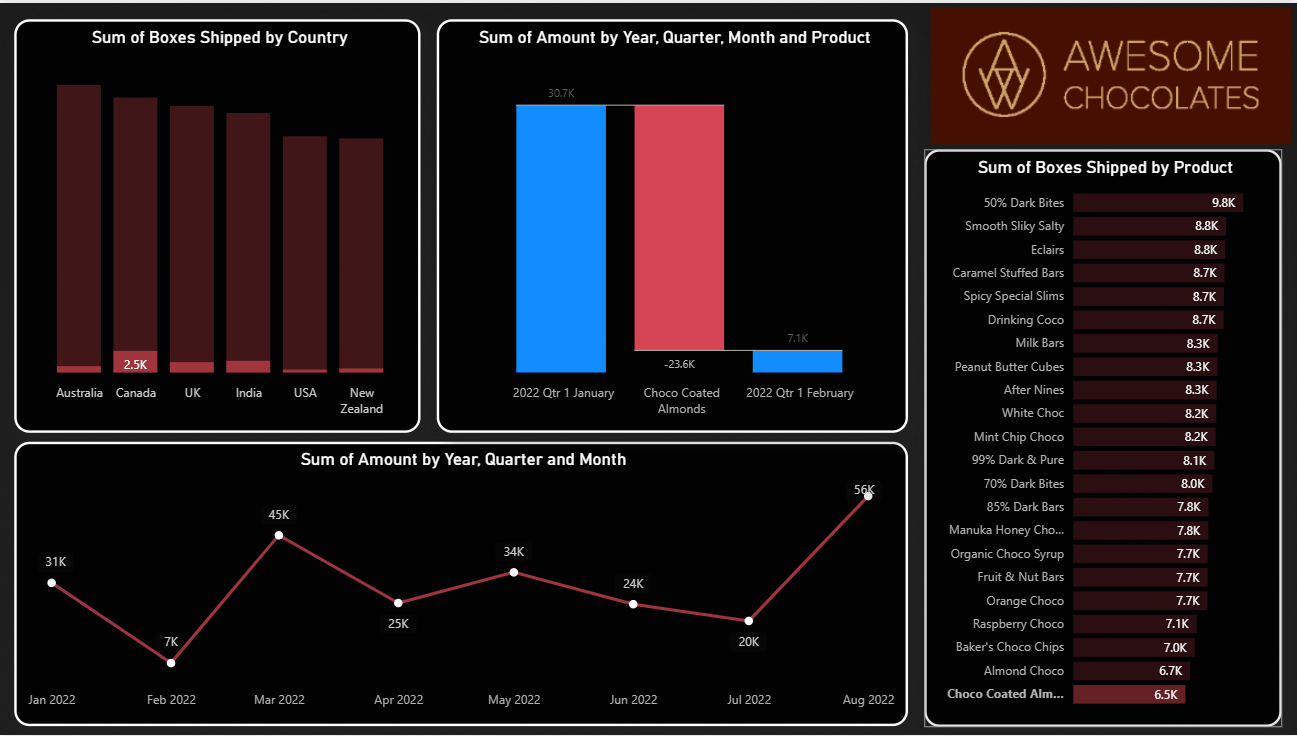

Layout of this report page (visuals, bound fields, positions):
{"tool":"powerbi","page":{"name":"Dashboard","canvas":[1280,720],"ordinal":0},"visuals":[{"type":"columnChart","fields":{"Category":["data.Country"],"Y":["Sum(data.Boxes Shipped)"]},"box":[16,16,400,407],"z":0},{"type":"barChart","fields":{"Category":["data.Product"],"Y":["Sum(data.Boxes Shipped)"]},"box":[912,144,352,569],"z":1},{"type":"lineChart","fields":{"Category":["data.Date.Variation.Date Hierarchy.Year","data.Date.Variation.Date Hierarchy.Quarter","data.Date.Variation.Date Hierarchy.Month","data.Date.Variation.Date Hierarchy.Day"],"Y":["Sum(data.Amount)"]},"box":[16,432,880,280],"z":2},{"type":"waterfallChart","fields":{"Category":["data.Date.Variation.Date Hierarchy.Year","data.Date.Variation.Date Hierarchy.Quarter","data.Date.Variation.Date Hierarchy.Month"],"Breakdown":["data.Product"],"Y":["Sum(data.Amount)"]},"box":[432,16,464,407],"z":3},{"type":"image","box":[912,0,368,144],"z":4}]}

Visuals, with their boxes in screenshot pixels (x1, y1, x2, y2), scaled from the page's 1280x720 canvas onto the 1297x736 screenshot:
columnChart - data.Country x Sum(data.Boxes Shipped): 16:16:422:432
barChart - data.Product x Sum(data.Boxes Shipped): 924:147:1281:729
lineChart - data.Date.Variation.Date Hierarchy.Year x data.Date.Variation.Date Hierarchy.Quarter: 16:442:908:728
waterfallChart - data.Date.Variation.Date Hierarchy.Year x data.Date.Variation.Date Hierarchy.Quarter: 438:16:908:432
image: 924:0:1296:147
